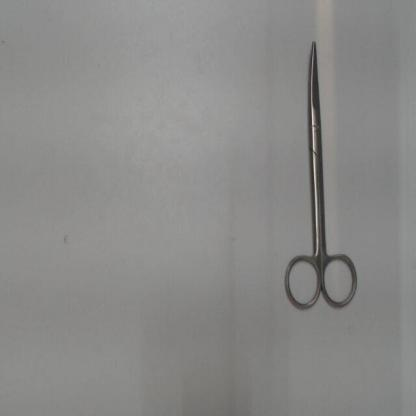Curved Mayo Scissors: (278, 33, 364, 315)
